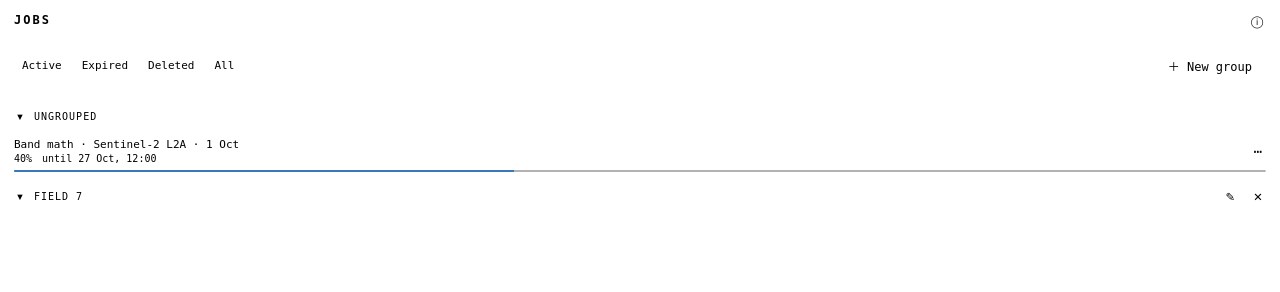
Test case: the menu of a row › puts the focus in the menu when it opens, keeps it there for the list of groups, and moves it with the arrow keys
Click the button "⋯".
click(1258, 151)  # box top-left (1246, 139), bottom-right (1270, 163)
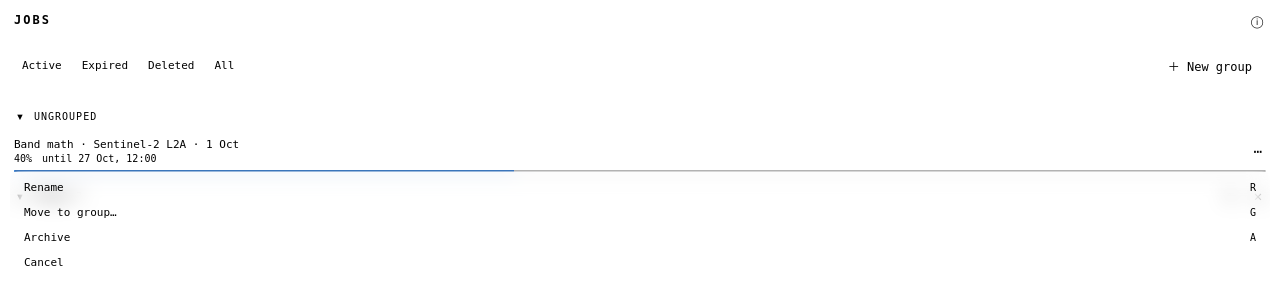
Press ArrowDown in the menu item "Rename R", box top-left (14, 175), bottom-right (1266, 200)
Press ArrowUp in the menu item "Move to group… G", box top-left (14, 200), bottom-right (1266, 225)
Press ArrowUp in the menu item "Rename R", box top-left (14, 175), bottom-right (1266, 200)
Press Home in the menu item "Cancel", box top-left (14, 250), bottom-right (1266, 275)
Press End in the menu item "Rename R", box top-left (14, 175), bottom-right (1266, 200)
Click the menu item "Move to group… G".
click(70, 212)  # box top-left (14, 200), bottom-right (1266, 225)
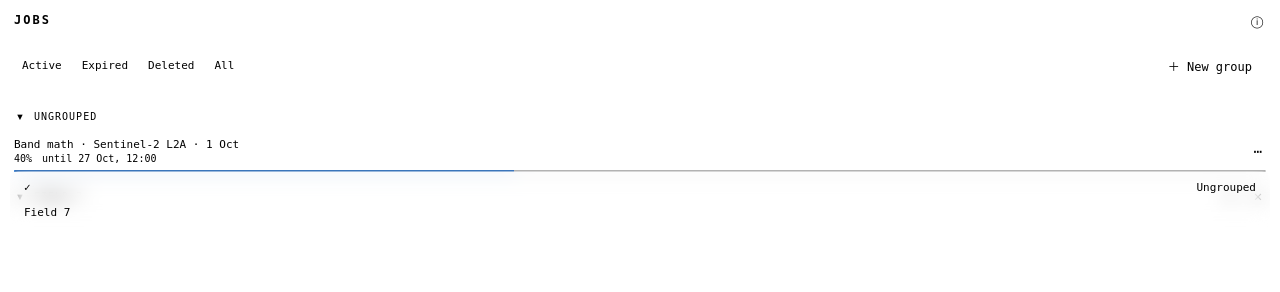
Press Escape in the menu item "Ungrouped", box top-left (14, 175), bottom-right (1266, 200)
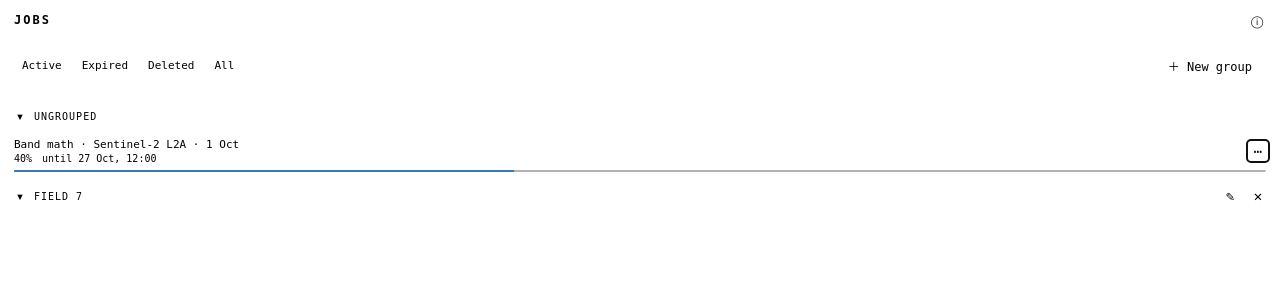
expect the menu is gone: met
